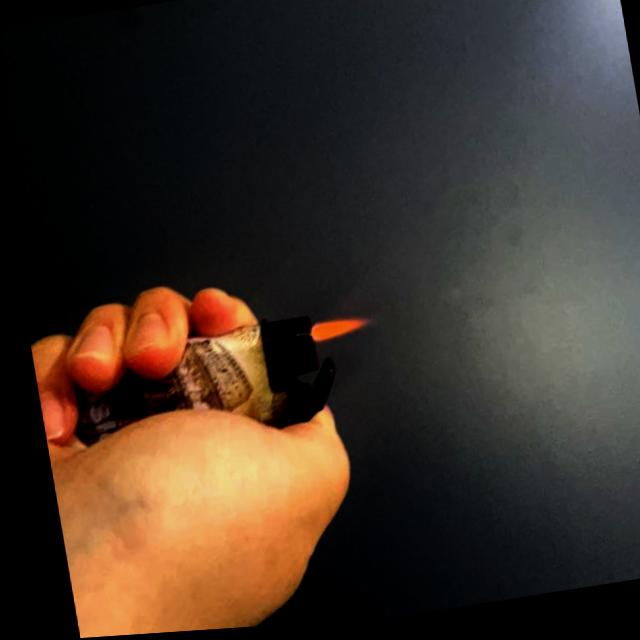helmet: (302, 314, 369, 348)
